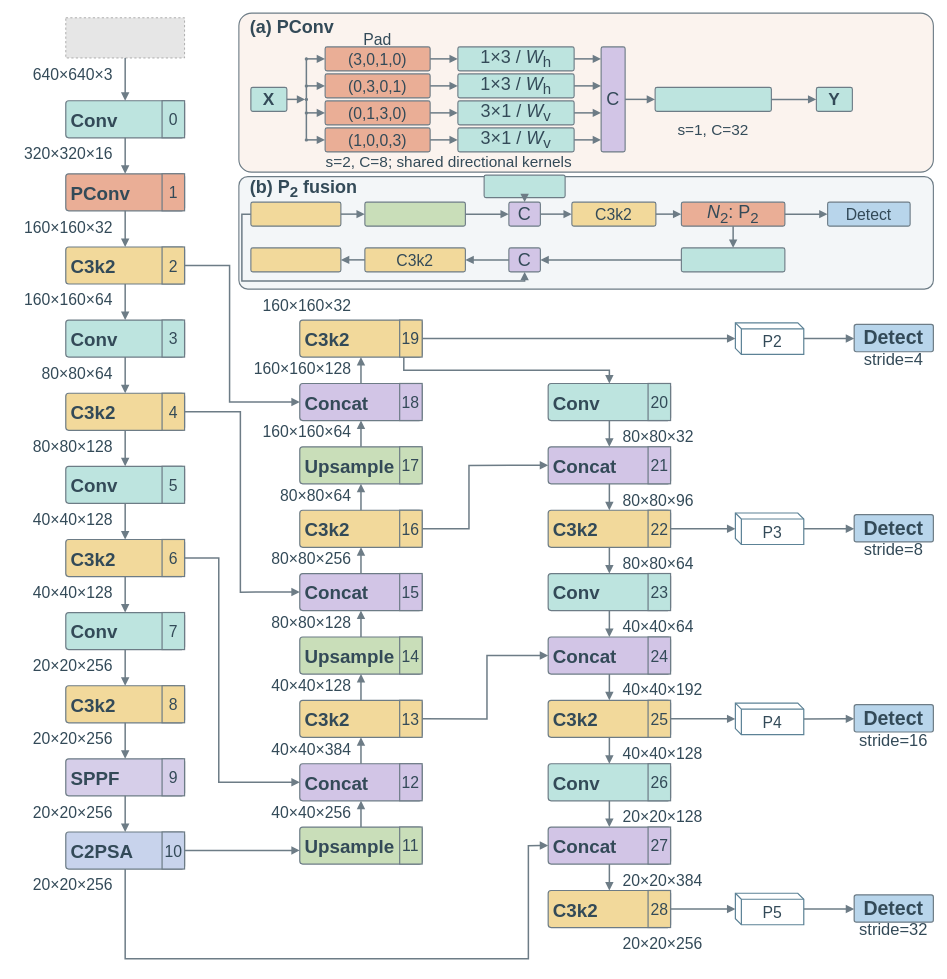
This 947x979 diagram has some shape labels left out. Grey dashed boxes stand in for pictures. The shapes that lost their labels are listed below. From the top down, each one's centre as x and y in pixels, then its label:
(713,99): 2×2 Conv
(524,186): B 2 (2)
(295,213): T 3 (16)
(415,213): Up ×2
(295,259): N 3 : P 3
(732,259): 3×3, s=2
